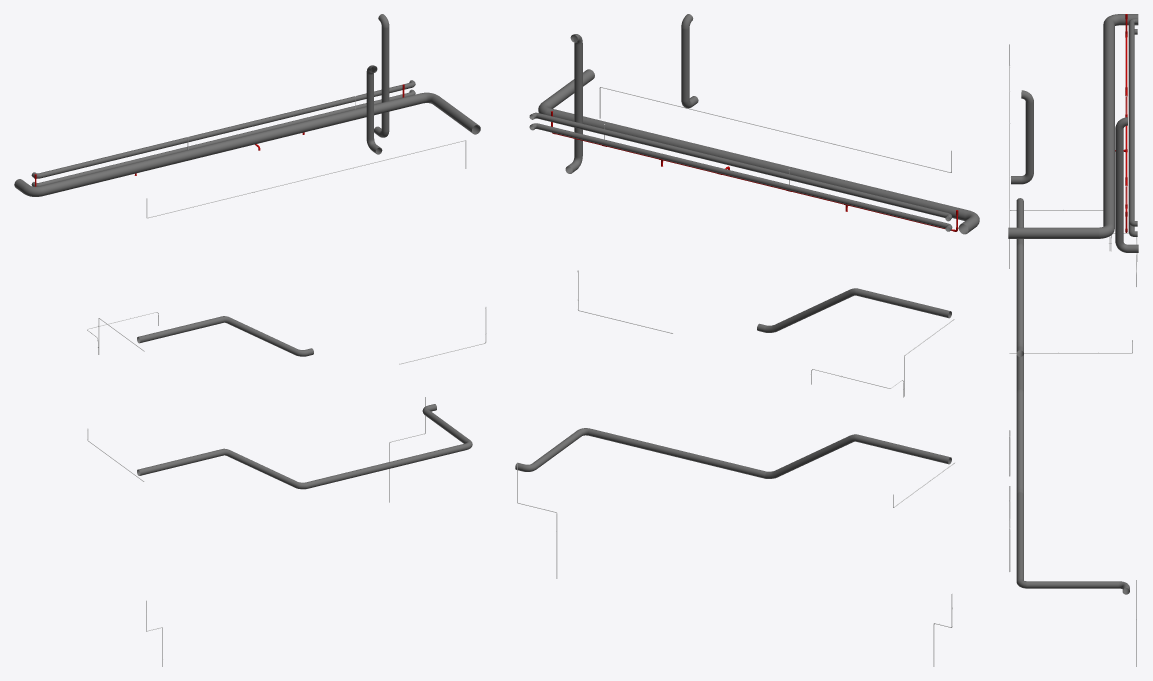
3 renders of one model, left to right at view 1: azimuth 30°, elevation 25°; view 2: azimuth 150°, elevation 25°; view 3: azimuth 270°, elevation 25°, orthographic. The views are drawn at different scales.
Parts seen in each view (by area): view 1: SM_H_Building_FutureTech_HLight_01_InterWall_02P; view 2: SM_H_Building_FutureTech_HLight_01_InterWall_02P; view 3: SM_H_Building_FutureTech_HLight_01_InterWall_02P.
Part boxes in pixels (x1,y1,x2,y2): SM_H_Building_FutureTech_HLight_01_InterWall_02P: [14, 14, 486, 666]; SM_H_Building_FutureTech_HLight_01_InterWall_02P: [515, 14, 979, 666]; SM_H_Building_FutureTech_HLight_01_InterWall_02P: [1008, 14, 1138, 666].
Bounding box in the file's own units: 187 × 759 × 955.
